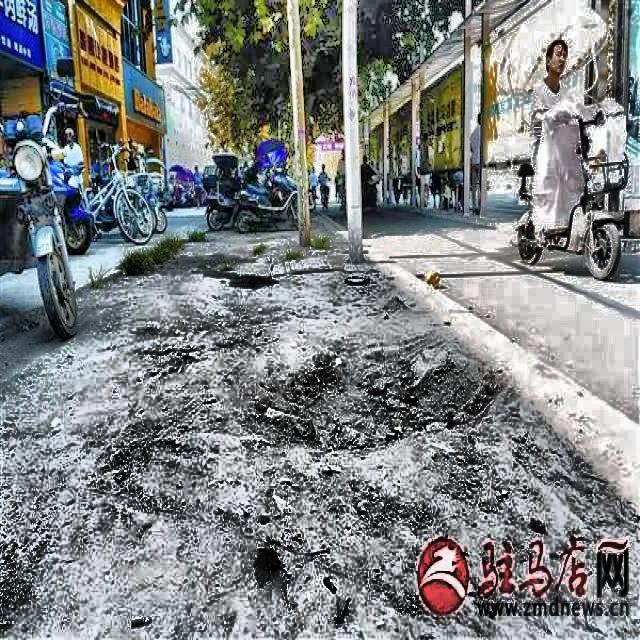buraco: (284, 350, 506, 450)
